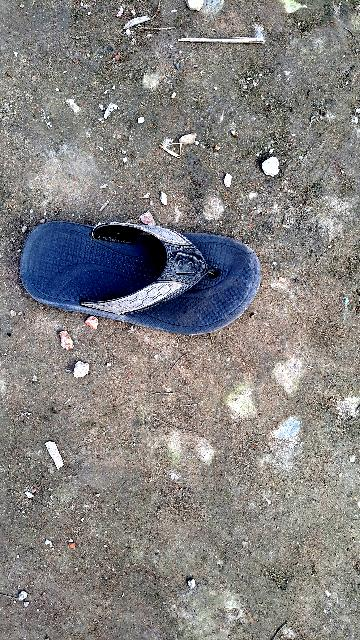sandal: (23, 216, 291, 347)
